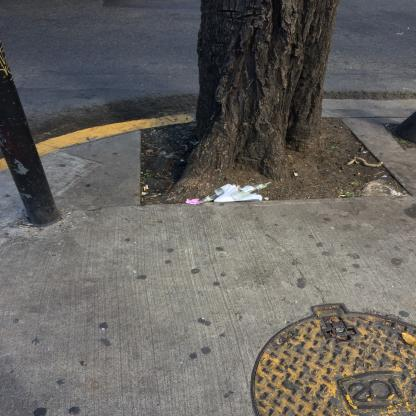trash: (212, 184, 264, 206), (199, 181, 239, 205), (230, 180, 273, 202), (184, 197, 206, 205)
